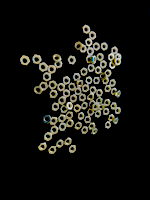nut: (19, 55, 31, 66), (31, 54, 42, 64), (41, 72, 52, 82), (38, 62, 48, 72), (74, 41, 84, 51), (67, 56, 77, 65), (48, 90, 58, 99), (39, 82, 49, 91), (38, 143, 48, 152), (42, 115, 52, 124), (50, 125, 59, 135), (51, 102, 60, 112), (66, 119, 75, 129), (92, 42, 101, 52), (86, 47, 95, 57), (81, 84, 91, 93), (73, 104, 82, 114), (101, 76, 110, 86), (76, 112, 86, 121), (62, 76, 71, 85), (47, 65, 56, 74), (43, 132, 52, 141), (48, 146, 57, 155), (49, 117, 58, 126), (57, 115, 66, 124), (65, 111, 74, 120), (76, 80, 85, 89), (86, 47, 95, 56), (107, 114, 116, 123), (87, 93, 96, 102), (74, 122, 83, 131), (52, 55, 62, 63), (101, 42, 109, 52), (33, 86, 43, 94), (57, 82, 65, 92), (73, 72, 81, 82), (57, 97, 67, 105), (70, 94, 78, 104), (93, 76, 101, 86), (83, 25, 91, 34), (85, 38, 93, 47), (89, 31, 97, 40), (49, 81, 57, 90), (54, 61, 63, 69), (68, 146, 77, 154), (64, 138, 72, 147), (56, 139, 64, 148), (81, 126, 89, 135), (59, 123, 67, 132), (69, 83, 77, 92), (62, 90, 71, 98), (60, 105, 68, 114), (66, 102, 74, 111), (74, 88, 83, 96), (79, 45, 87, 54), (85, 56, 94, 64), (97, 53, 105, 62), (115, 53, 123, 62), (100, 60, 108, 69), (85, 76, 93, 85), (79, 93, 87, 102), (81, 102, 89, 111), (93, 77, 101, 86), (109, 79, 117, 88), (105, 121, 113, 130), (104, 99, 112, 108), (96, 89, 104, 98), (92, 103, 100, 112), (84, 116, 92, 125), (89, 122, 97, 131), (111, 87, 118, 97), (90, 85, 97, 95), (91, 55, 97, 66), (111, 47, 119, 55), (105, 69, 113, 77), (99, 73, 107, 81), (113, 118, 121, 126), (88, 64, 95, 73), (109, 61, 116, 70), (95, 66, 102, 75), (105, 85, 112, 94), (96, 98, 105, 105), (95, 110, 102, 119), (103, 108, 110, 117), (115, 107, 122, 115), (81, 68, 88, 76), (115, 58, 122, 66), (108, 53, 115, 61), (115, 90, 122, 98), (111, 103, 118, 111), (89, 100, 96, 108), (91, 129, 99, 136), (87, 109, 94, 116), (97, 105, 104, 110)
